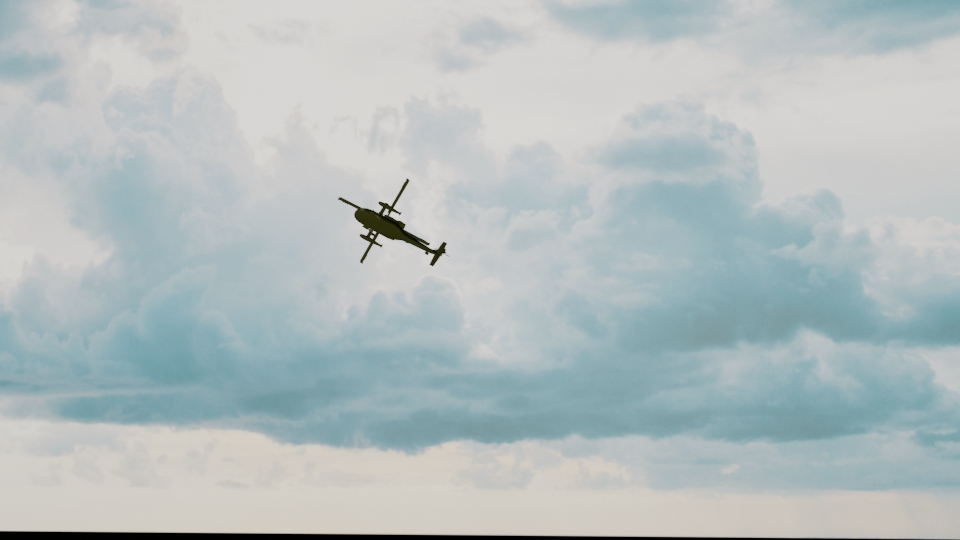heli: (338, 176, 447, 268)
